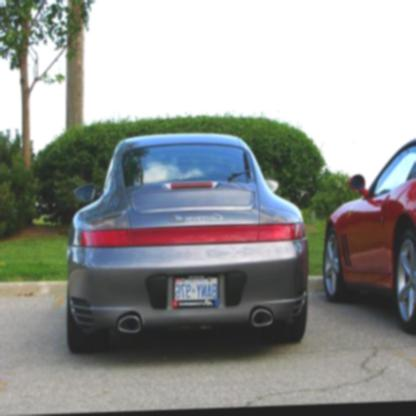License_Plate: (172, 275, 220, 309)
